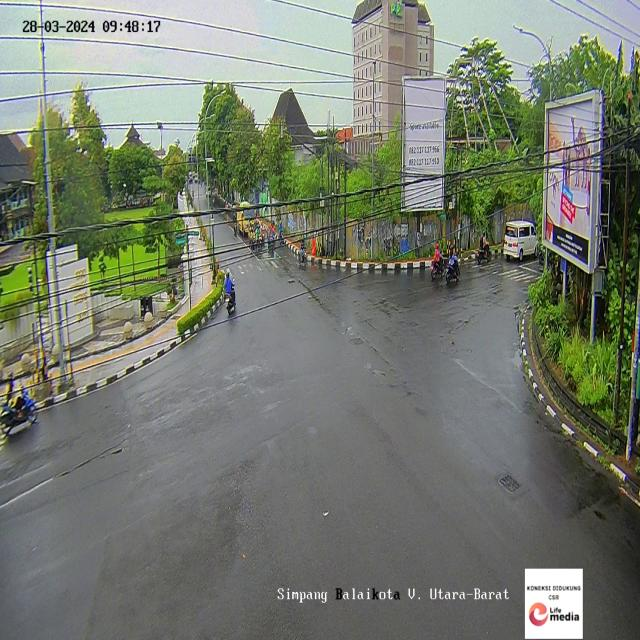car: (504, 220, 539, 262)
motorcycle: (444, 241, 460, 285), (474, 230, 492, 267), (430, 240, 443, 280), (223, 270, 235, 312), (297, 235, 307, 266), (277, 218, 285, 247)
truck: (237, 207, 256, 237)
